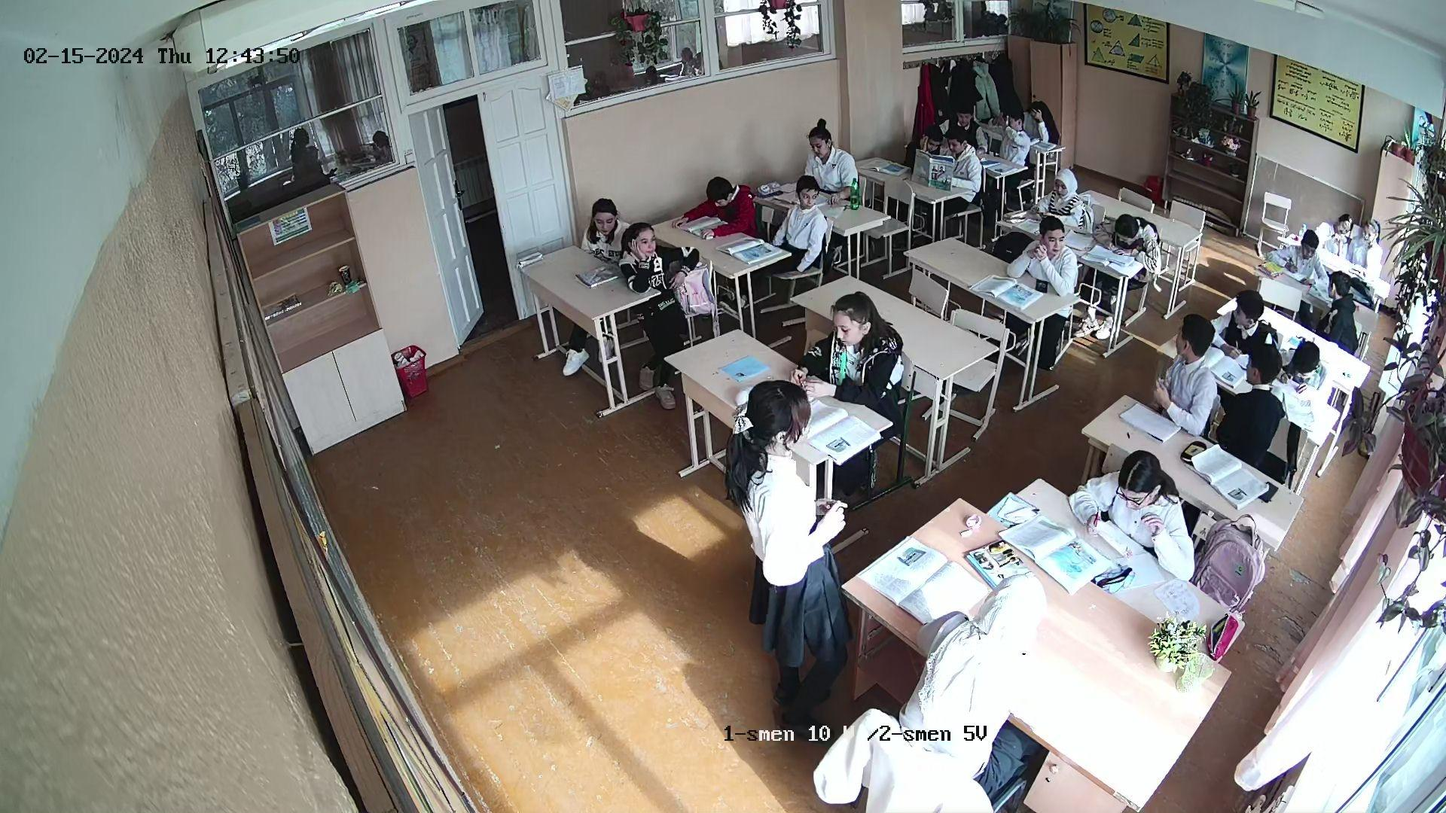Look Around: (1162, 315, 1214, 388), (1229, 345, 1274, 416), (1029, 214, 1070, 277), (1221, 287, 1268, 340), (791, 177, 826, 248), (1326, 275, 1364, 339)
Normal: (679, 172, 751, 244), (1097, 212, 1166, 269)
Stand Up: (717, 373, 851, 696)
